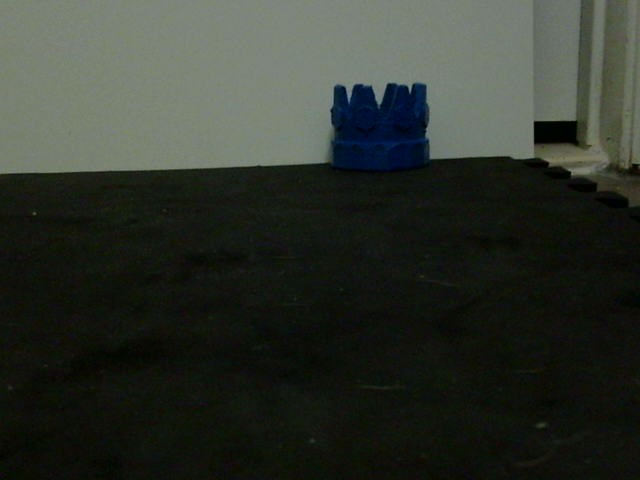crown: (327, 81, 435, 172)
